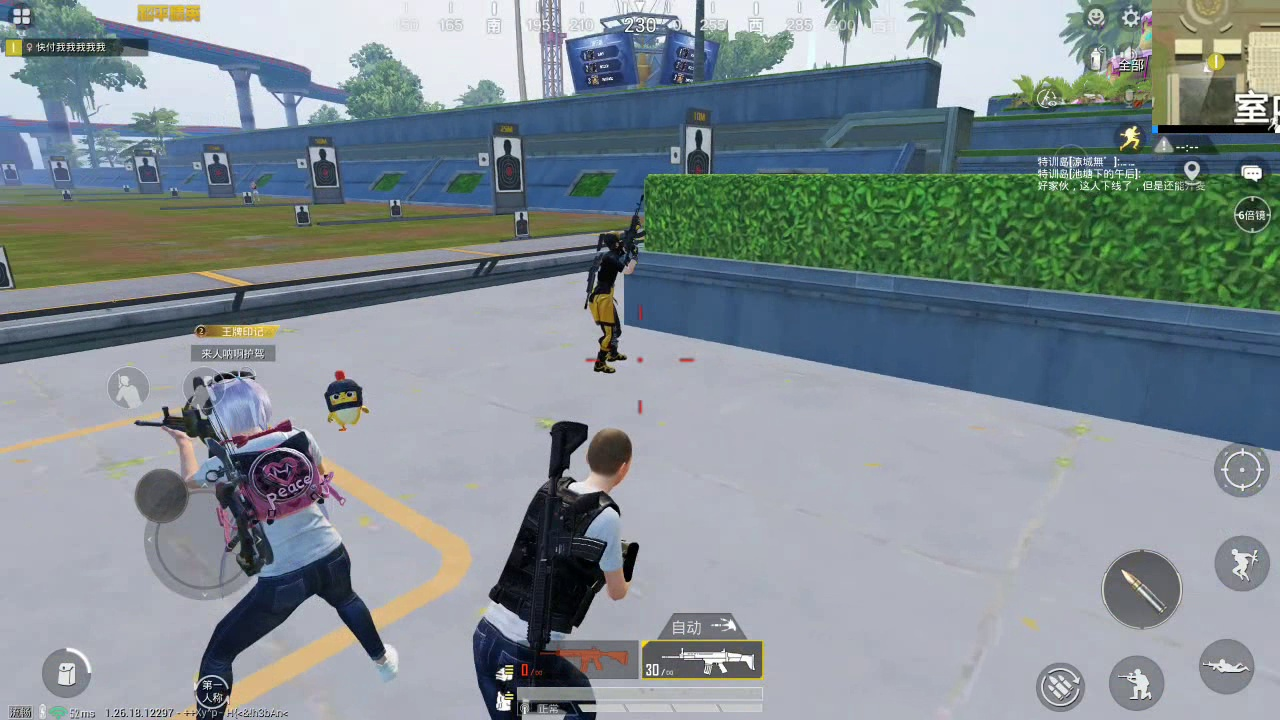enemy: (197, 372, 402, 720), (595, 232, 630, 379)
